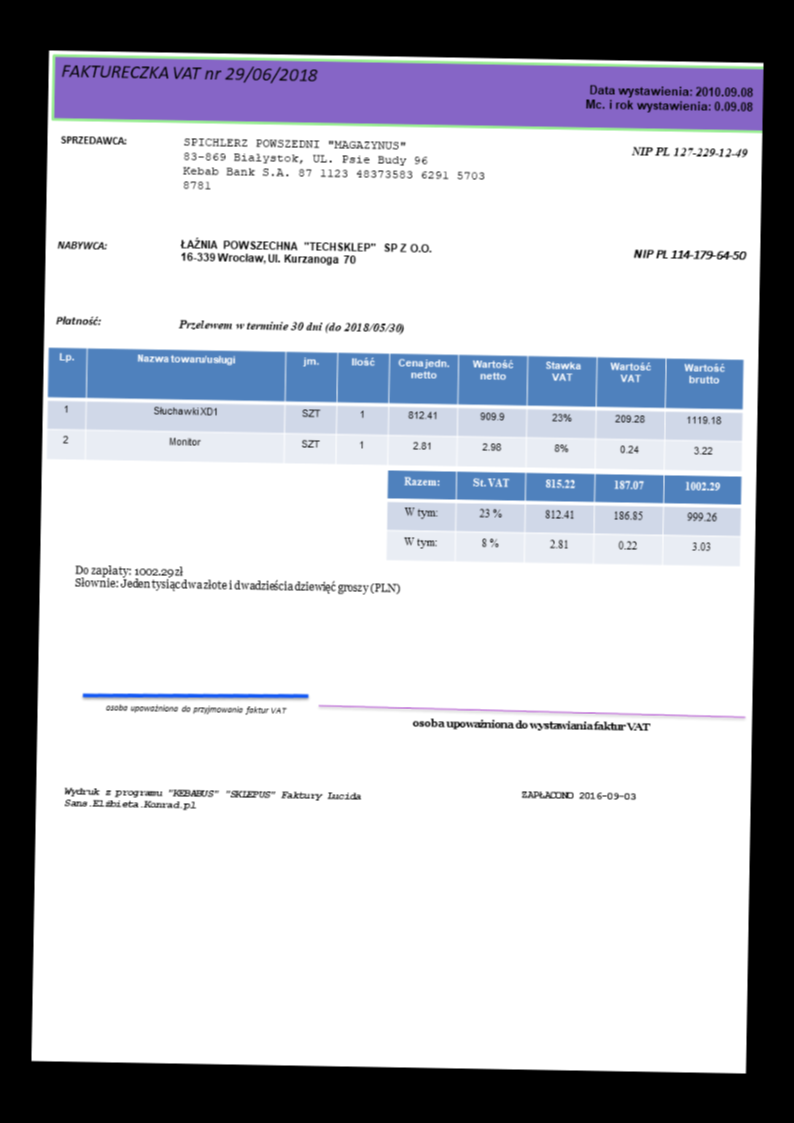Table: (43, 345, 745, 473), (384, 468, 742, 567)
TextBox: (180, 133, 487, 196), (72, 562, 401, 596), (61, 783, 362, 813), (178, 234, 432, 267), (59, 60, 319, 85), (582, 81, 755, 115), (410, 713, 652, 734), (175, 316, 407, 337), (102, 701, 287, 717), (629, 143, 749, 160), (631, 246, 749, 262), (519, 787, 637, 803), (58, 132, 129, 147), (53, 237, 110, 252), (54, 312, 102, 327)
